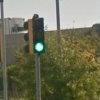Traffic light: (21, 7, 54, 63)
